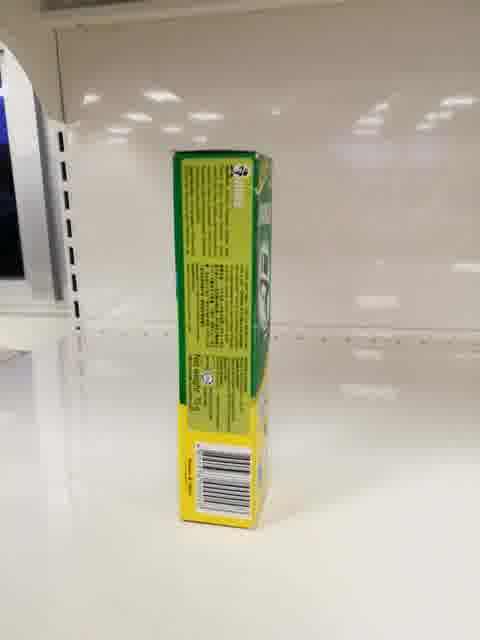toothpaste: (171, 149, 273, 531)
